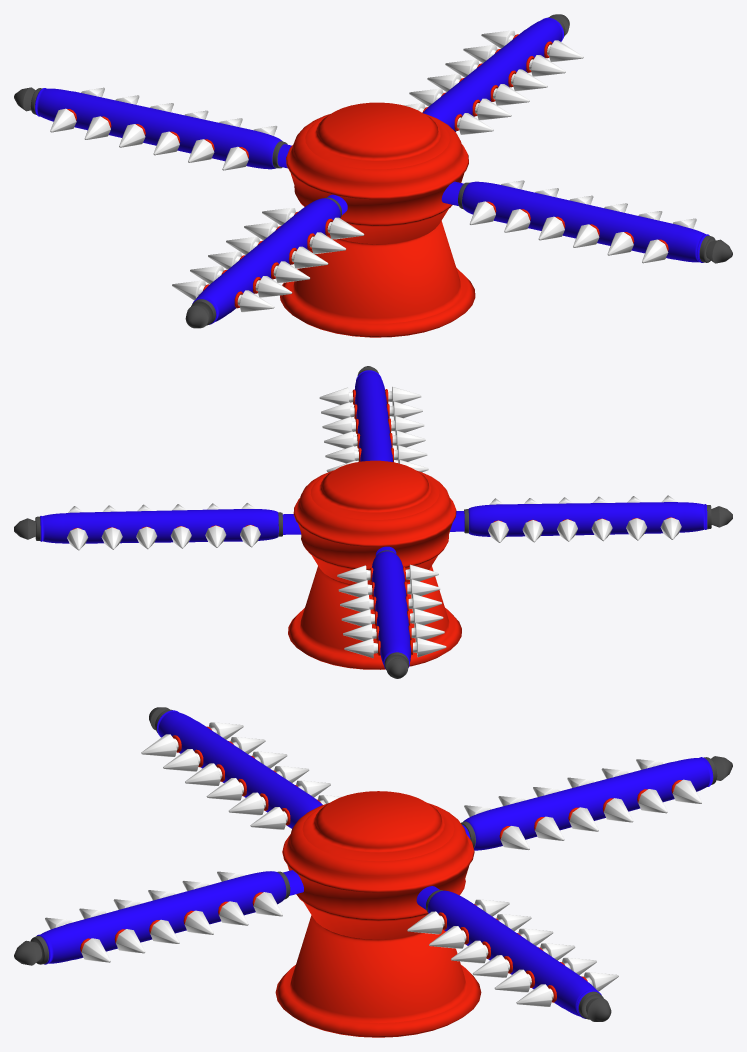
Rendered from Obstacle1.fbx.
3 views of the same model, one above another, from view 1: azimuth 30°, elevation 25°; view 2: azimuth 150°, elevation 25°; view 3: azimuth 270°, elevation 25° (orthographic). The views are drawn at different scales.
Visible parts, largest first — view 1: Obstacle_2, Base; view 2: Obstacle_2, Base; view 3: Obstacle_2, Base.
Boxes of the visible parts, bbox=[...] form: Obstacle_2: bbox=[14, 14, 732, 328]; Base: bbox=[280, 102, 475, 337]; Obstacle_2: bbox=[14, 366, 732, 678]; Base: bbox=[288, 460, 461, 669]; Obstacle_2: bbox=[14, 707, 732, 1021]; Base: bbox=[275, 791, 481, 1037].
Bounding box in the file's own units: 808 × 225 × 808.
